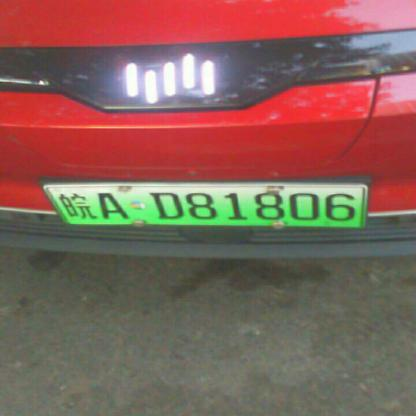lp: (47, 187, 69, 227)
